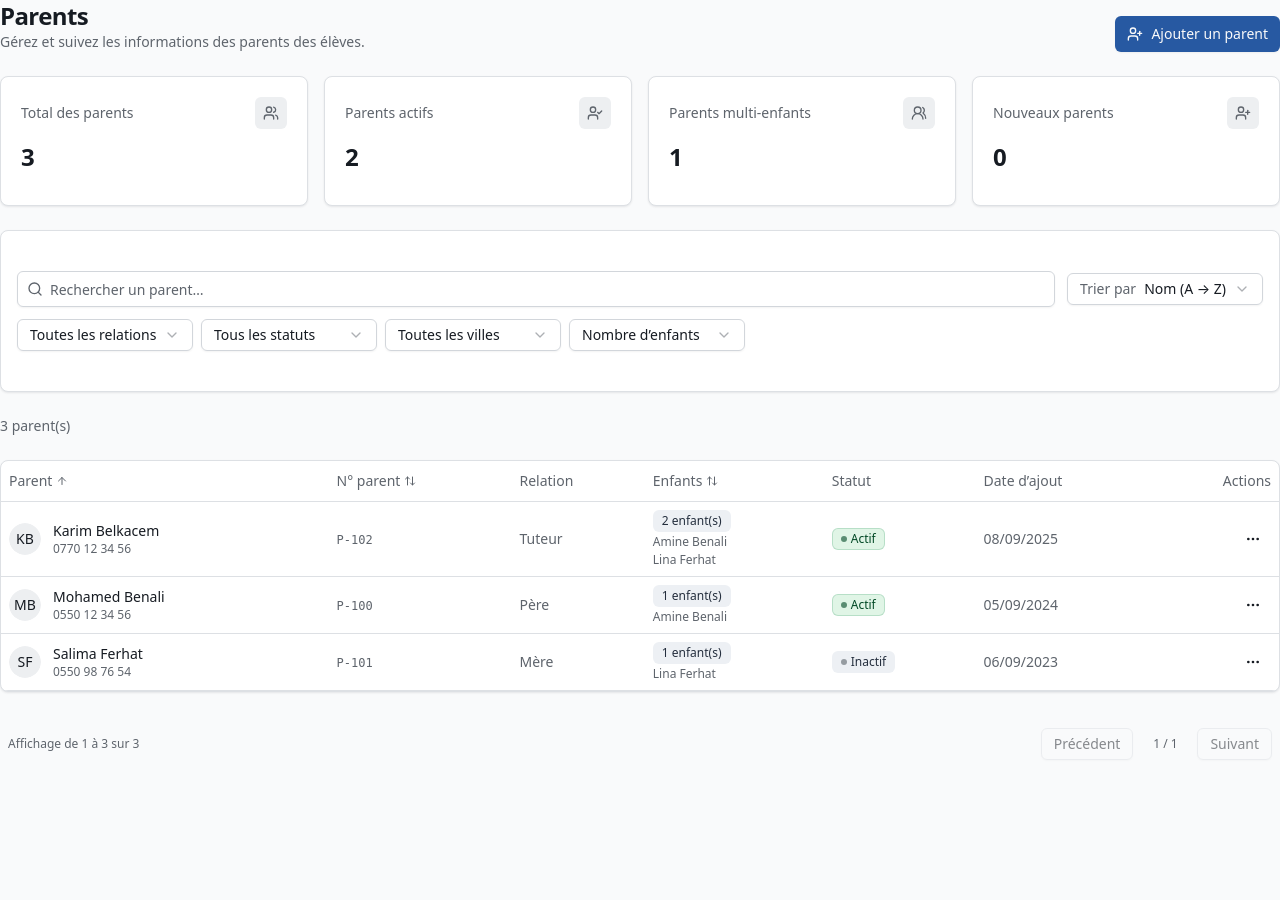
Test: ParentsPage › deletes a parent after confirmation and warns about linked children
The width and height of the screenshot is (1280, 900).
Expected: the link "Mohamed Benali" is shown, [53, 586, 165, 606]
Click the button named "Actions" in the row of "Mohamed Benali".
click(1253, 604)  # box [1235, 586, 1271, 622]
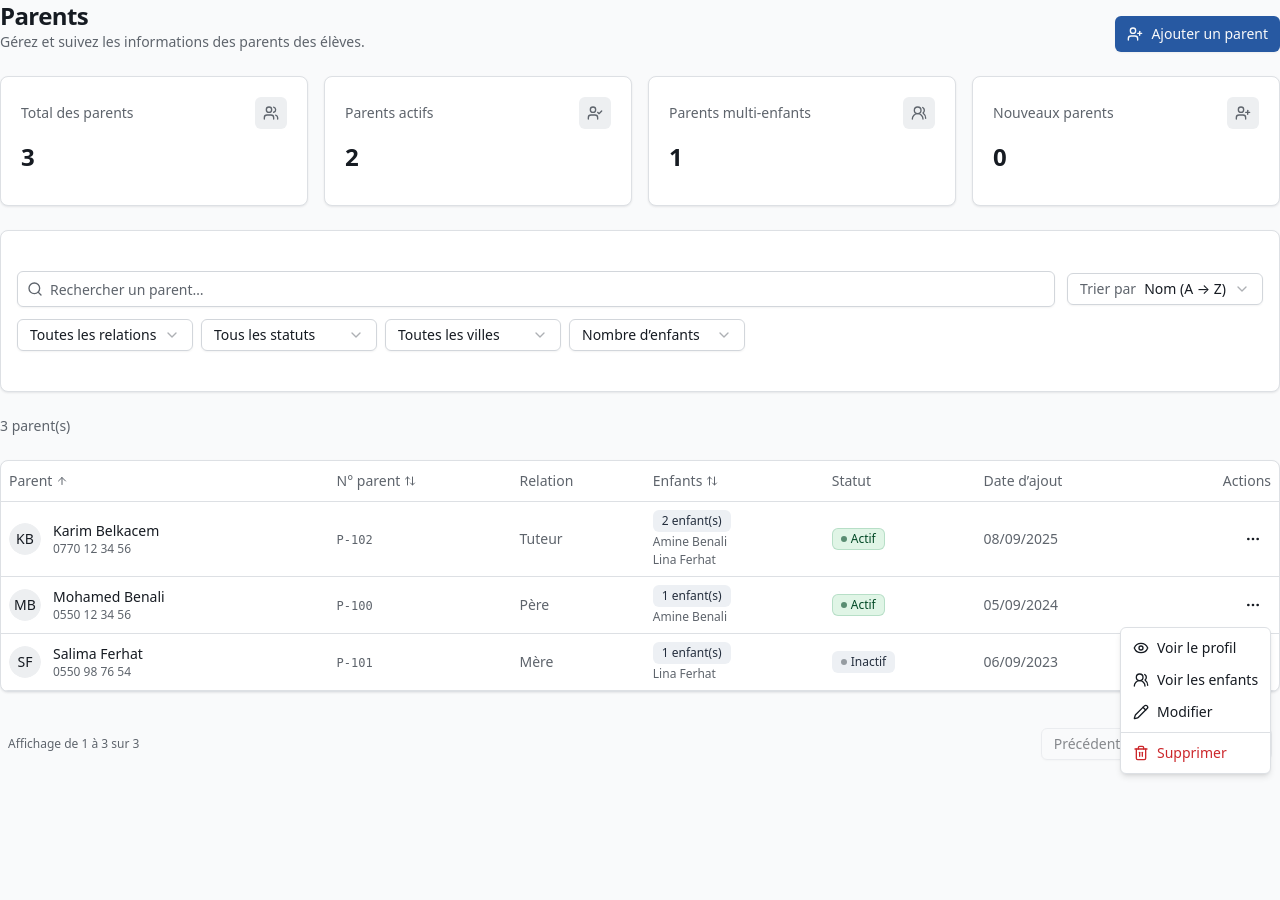
Click the menu item "Supprimer".
click(1180, 752)  # box [1133, 743, 1227, 762]
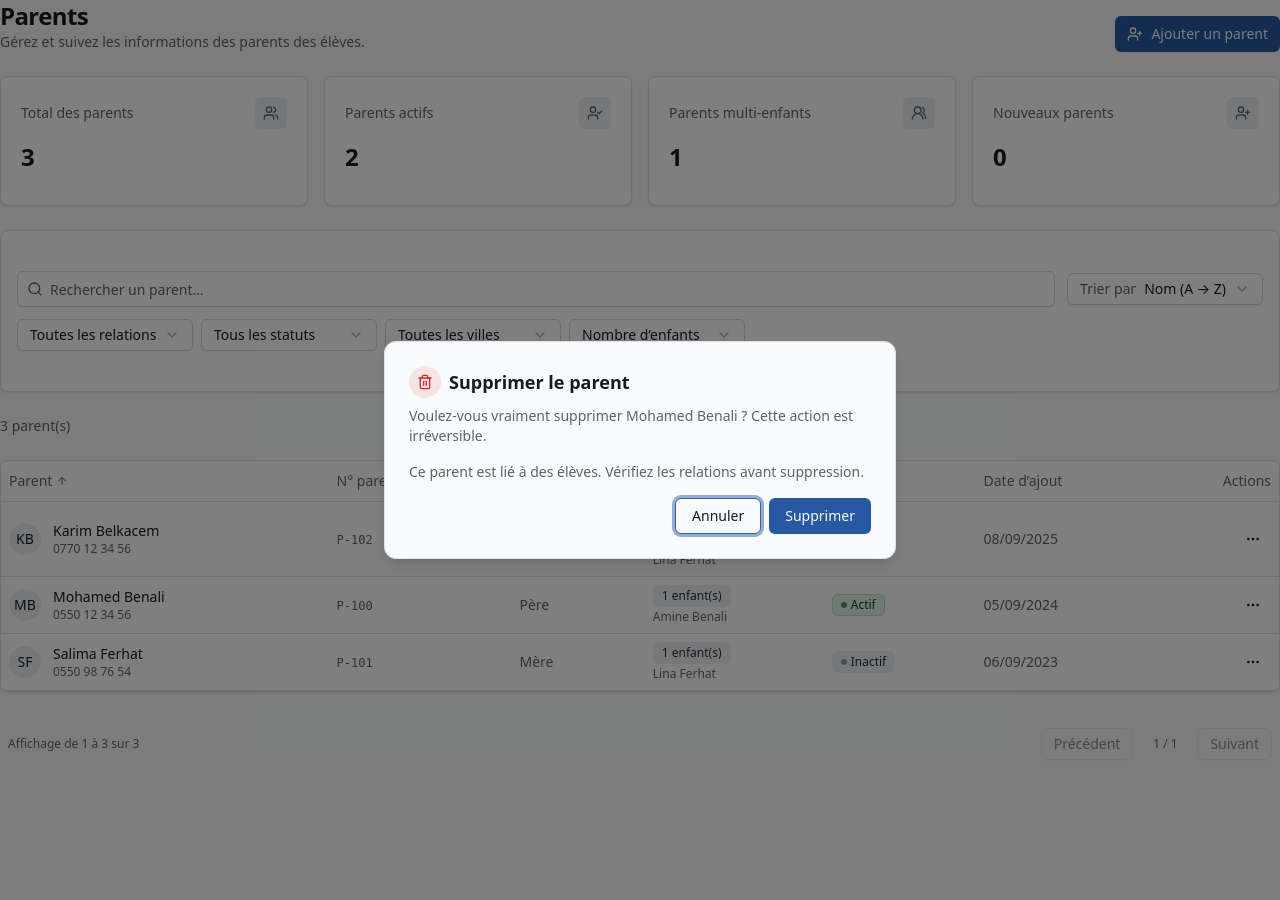
Expected: the text "Ce parent est lié à des élèves" is shown, [409, 462, 864, 481]
Click the button "Supprimer".
click(820, 516)  # box [769, 498, 871, 534]
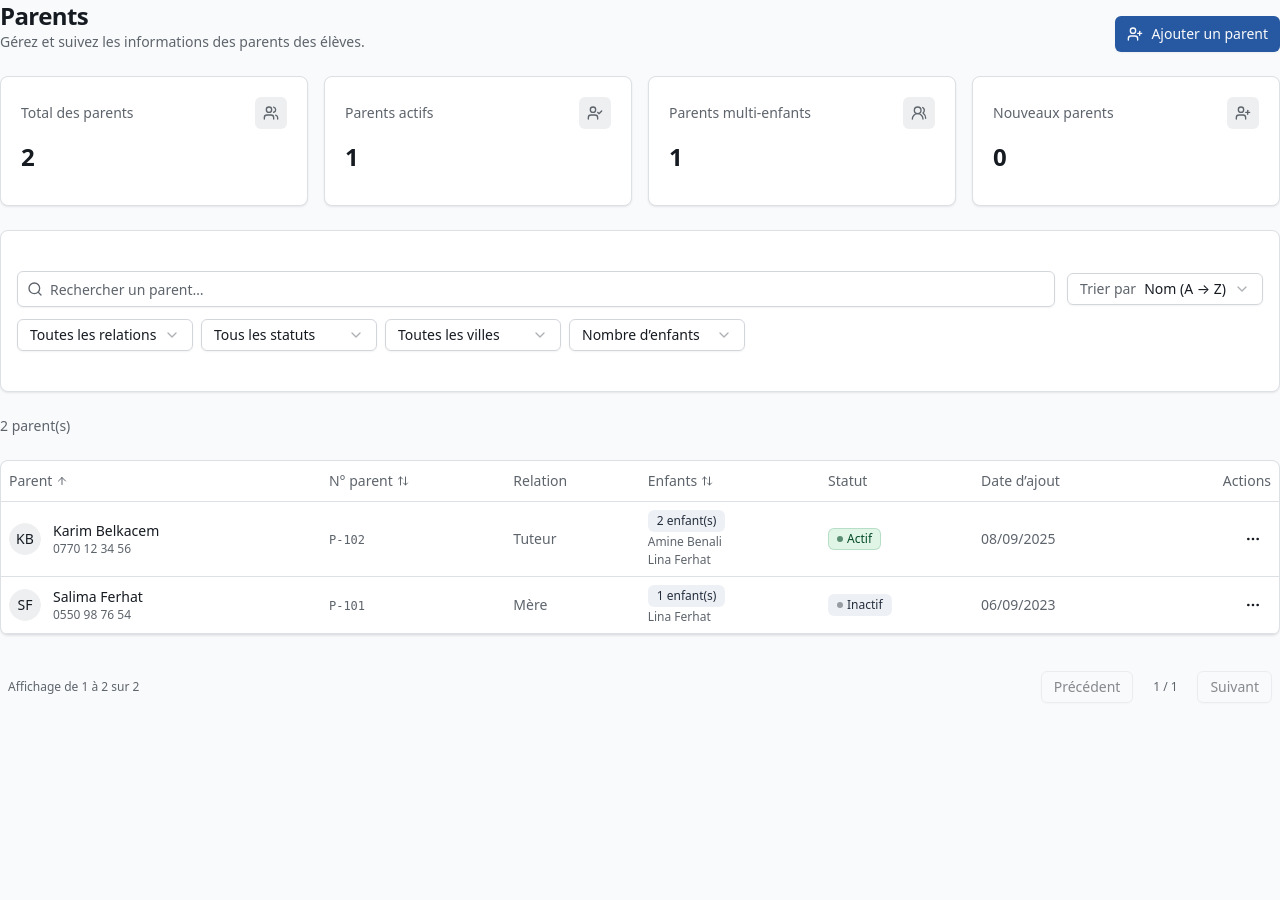
Expected: the link "Mohamed Benali" is gone
